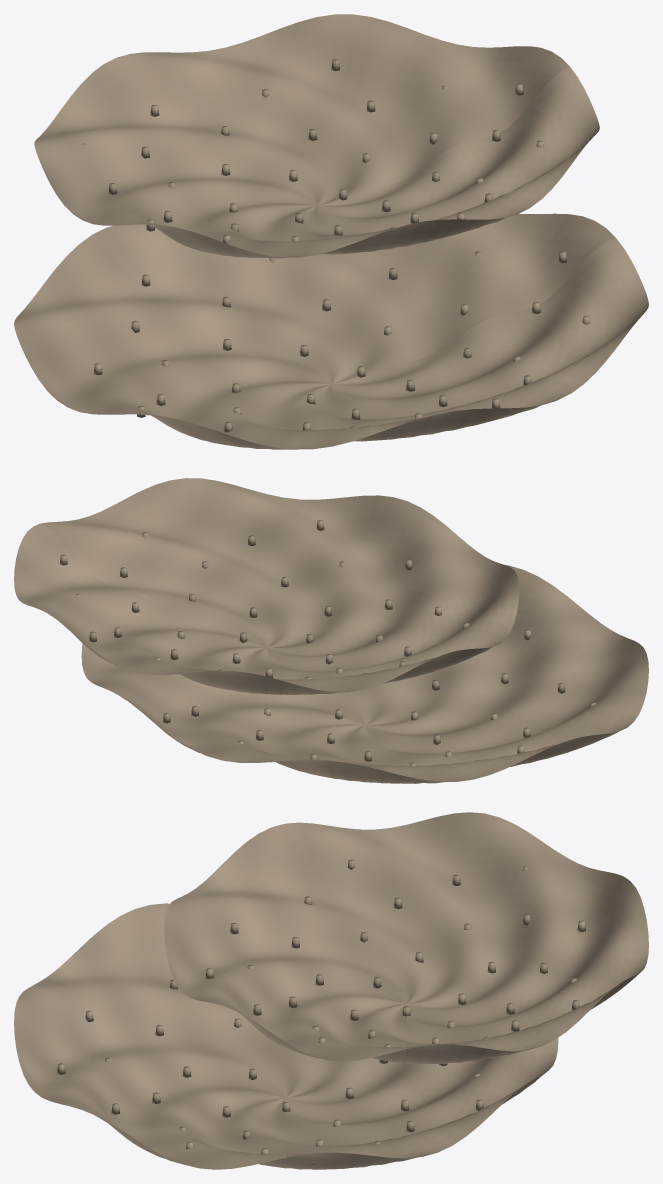
The model's file is plate-desktop.glb.
The picture shows the model from 3 angles, top to bottom: view 1: azimuth 30°, elevation 25°; view 2: azimuth 150°, elevation 25°; view 3: azimuth 270°, elevation 25°; orthographic projection. The views are drawn at different scales.
Visible parts, largest first — view 1: foliate-plate, surface-corallite; view 2: foliate-plate, surface-corallite; view 3: foliate-plate, surface-corallite.
Boxes of the visible parts, bbox=[...] form: foliate-plate: bbox=[14, 14, 648, 449]; surface-corallite: bbox=[64, 59, 590, 432]; foliate-plate: bbox=[14, 478, 648, 783]; surface-corallite: bbox=[59, 520, 596, 765]; foliate-plate: bbox=[14, 812, 648, 1169]; surface-corallite: bbox=[57, 859, 585, 1164].
Size of the model in its own units: 0.659 by 0.2175 by 0.6419.
